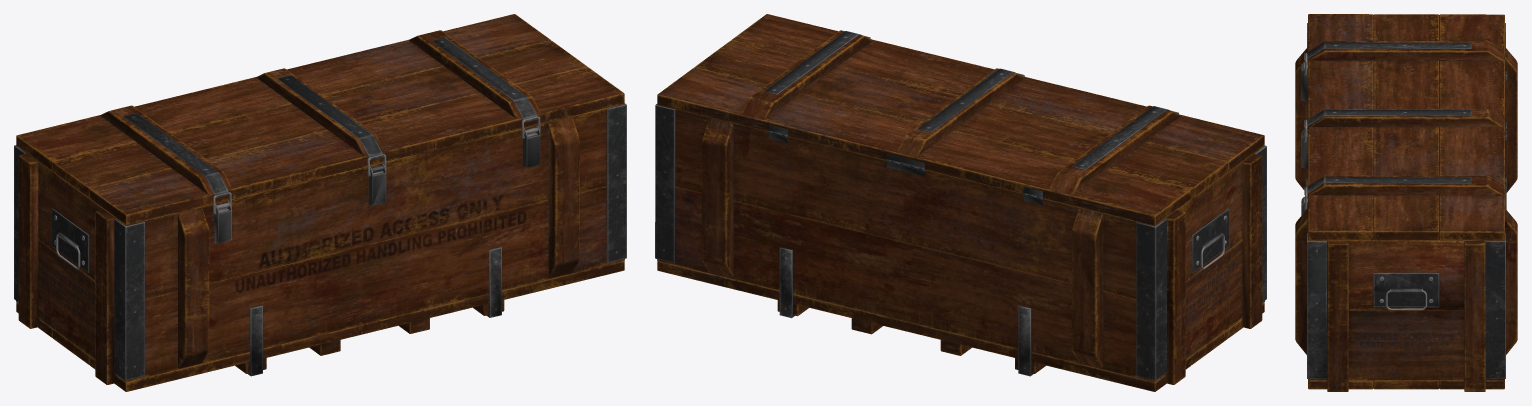
The model's file is wooden_military_crate.glb.
3 renders of one model, left to right at view 1: azimuth 30°, elevation 25°; view 2: azimuth 150°, elevation 25°; view 3: azimuth 270°, elevation 25°, orthographic. The views are drawn at different scales.
Visible parts, largest first — view 1: wooden_military_crate, wooden_military_crate_lid; view 2: wooden_military_crate, wooden_military_crate_lid; view 3: wooden_military_crate_lid, wooden_military_crate.
Part boxes in pixels (bbox=[...]): wooden_military_crate: bbox=[14, 103, 626, 391]; wooden_military_crate_lid: bbox=[16, 14, 624, 224]; wooden_military_crate: bbox=[655, 104, 1266, 391]; wooden_military_crate_lid: bbox=[657, 14, 1264, 225]; wooden_military_crate_lid: bbox=[1304, 14, 1506, 240]; wooden_military_crate: bbox=[1295, 23, 1517, 391].
Bounding box in the file's own units: 1.24 × 0.4647 × 0.5198.
Materials: 1 (1 with a texture image).
